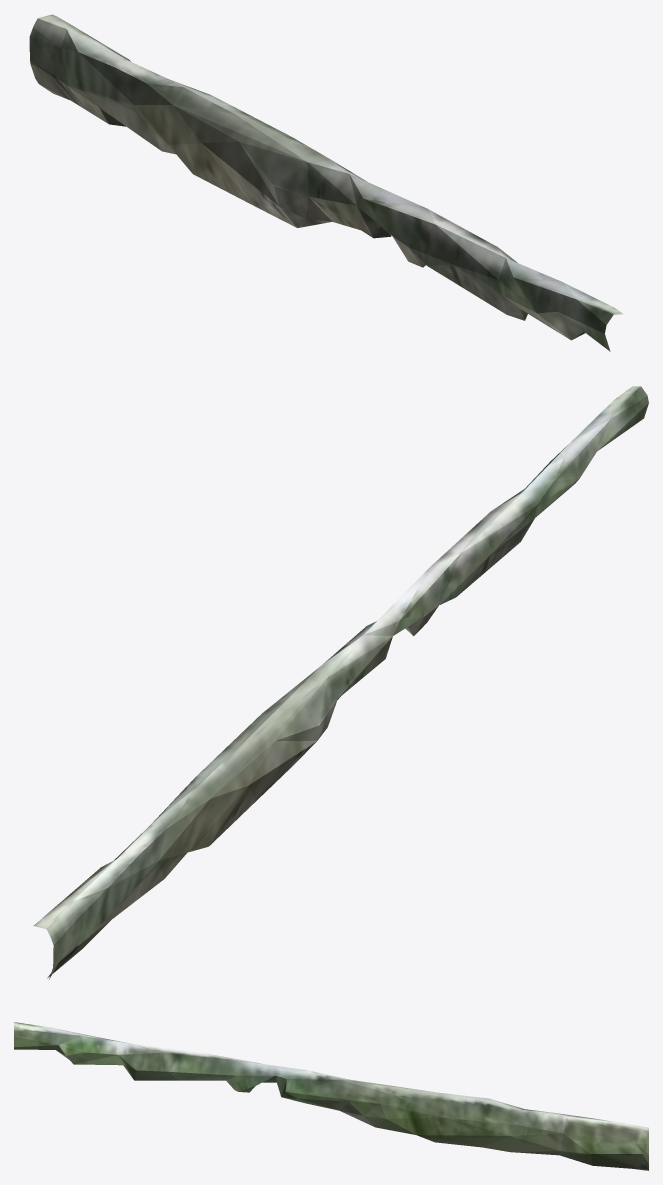
3 views of the same model, one above another, from view 1: azimuth 30°, elevation 25°; view 2: azimuth 150°, elevation 25°; view 3: azimuth 270°, elevation 25° (orthographic). The views are drawn at different scales.
Size of the model in its own units: 0.5672 by 1.34 by 5.9.
Materials: 1 (1 with a texture image).
